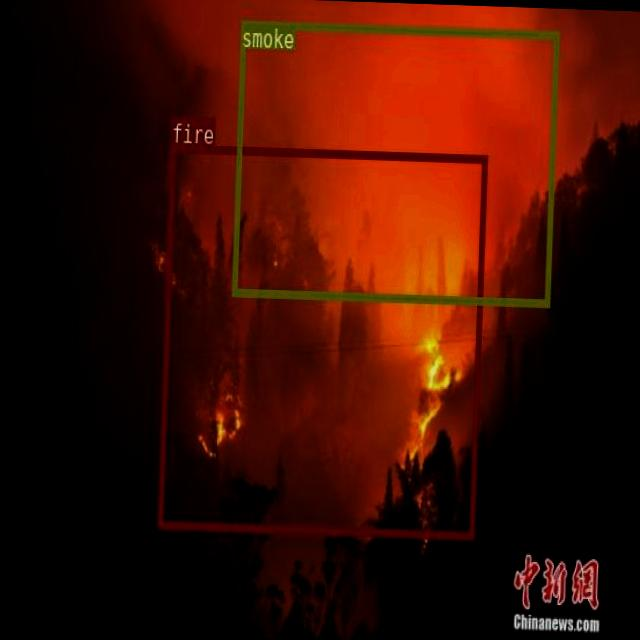fire: (156, 142, 487, 538)
smoke: (230, 18, 558, 304)
